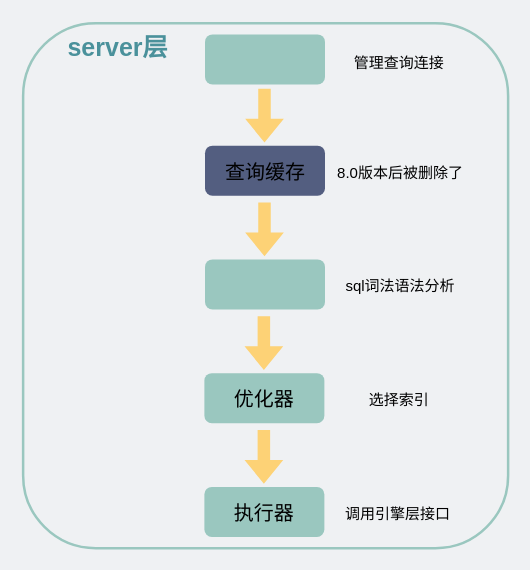
Image size: 530x570. Some labels were removed from this diagram. Here are the shapes that lost their labels. From the top down, the box of each, then its label:
(204, 34, 324, 84): 连接管理
(204, 259, 324, 309): 分析器
